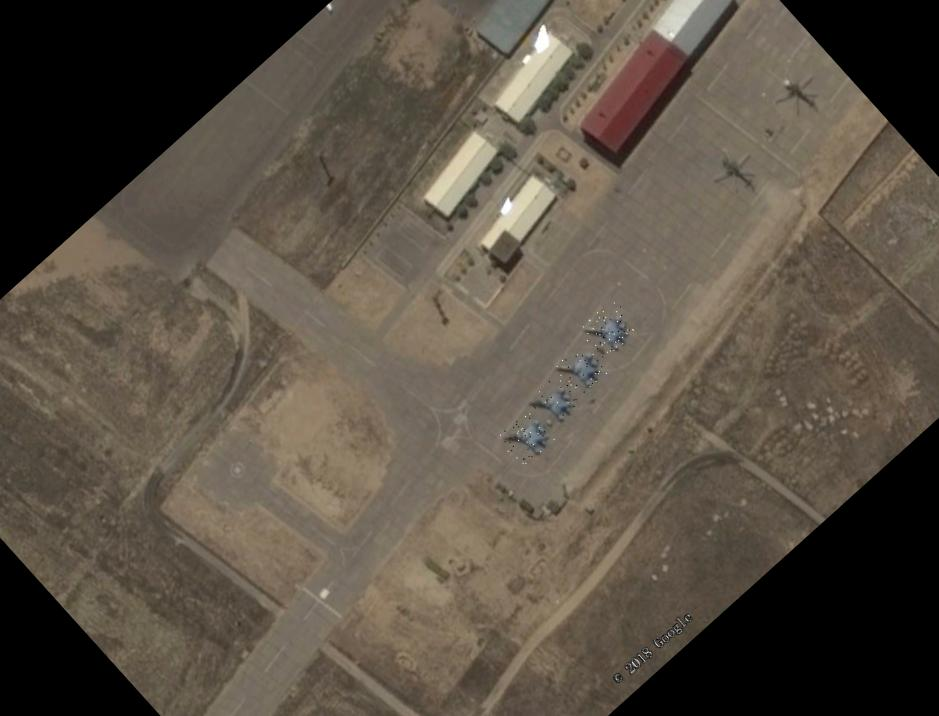A1: (577, 298, 640, 360), (496, 409, 555, 468), (550, 340, 608, 399), (524, 375, 580, 432)
